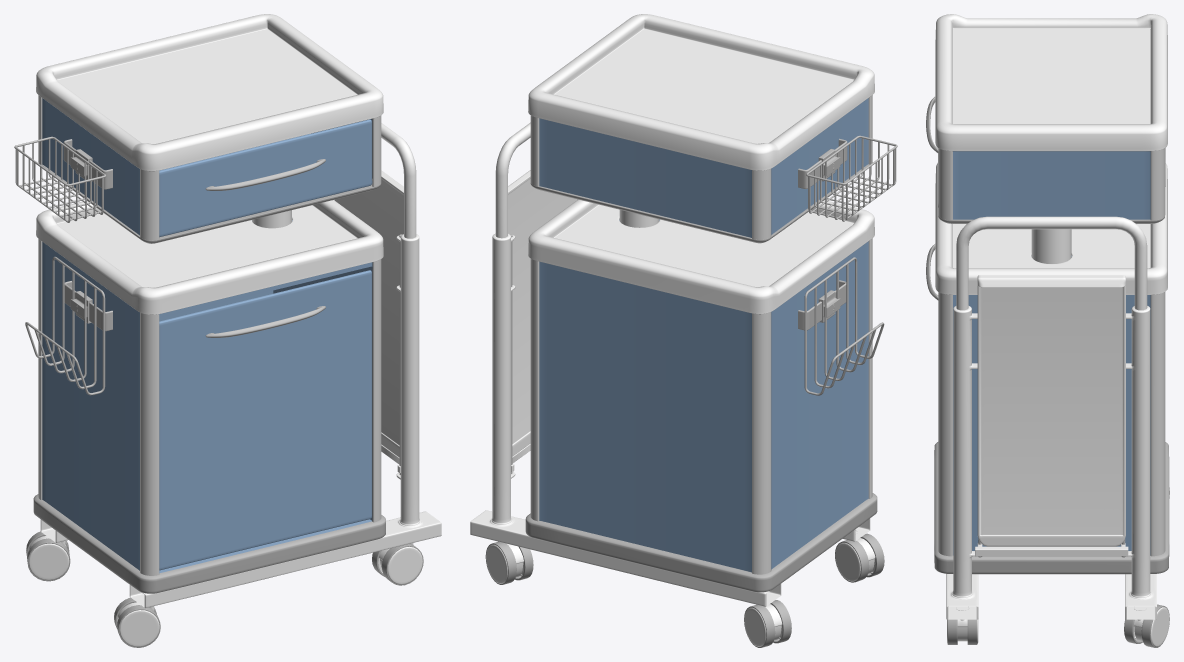
Rendered from prop4.fbx.
3 renders of one model, left to right at view 1: azimuth 30°, elevation 25°; view 2: azimuth 150°, elevation 25°; view 3: azimuth 270°, elevation 25°, orthographic.
Visible parts, largest first — view 1: ds1732, ds1736, ds1735, ds1737, ds1734, ds1738, ds1731; view 2: ds1732, ds1736, ds1735, ds1737, ds1738, ds1734, ds1731; view 3: ds1736, ds1735, ds1732, ds1737, ds1738, ds1731, ds1734.
Boxes of the visible parts, box(x1,y1,x2,y2) form: ds1732: box(42, 98, 372, 573); ds1736: box(28, 14, 422, 646); ds1735: box(40, 123, 441, 608); ds1737: box(38, 95, 381, 575); ds1734: box(14, 136, 402, 474); ds1738: box(33, 133, 385, 593); ds1731: box(26, 531, 423, 647); ds1732: box(539, 98, 868, 572); ds1736: box(486, 14, 875, 646); ds1735: box(470, 122, 870, 606); ds1737: box(530, 95, 872, 574); ds1738: box(525, 162, 877, 592); ds1734: box(509, 135, 897, 473); ds1731: box(485, 533, 884, 647); ds1736: box(935, 14, 1169, 646); ds1735: box(946, 216, 1156, 619); ds1732: box(953, 151, 1150, 555); ds1737: box(938, 148, 1165, 556); ds1738: box(934, 148, 1169, 574); ds1731: box(947, 487, 1169, 647); ds1734: box(926, 97, 1125, 557).
Size of the model in its own units: 81.75 by 112 by 49.28.
